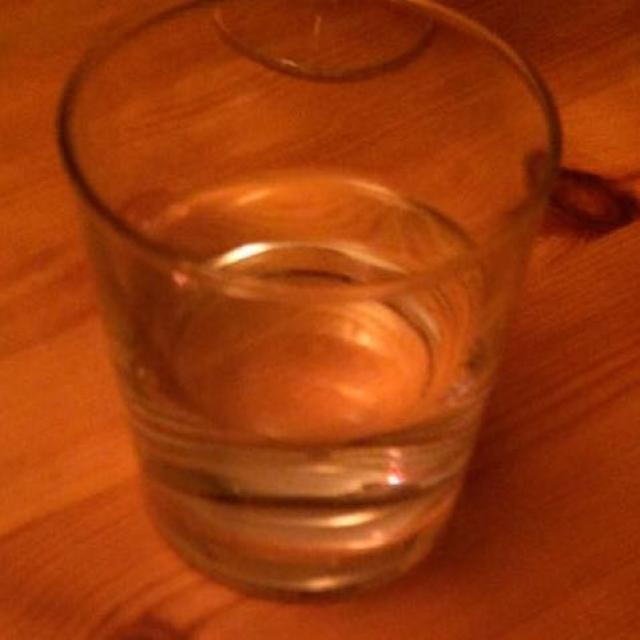water: (52, 2, 560, 604)
